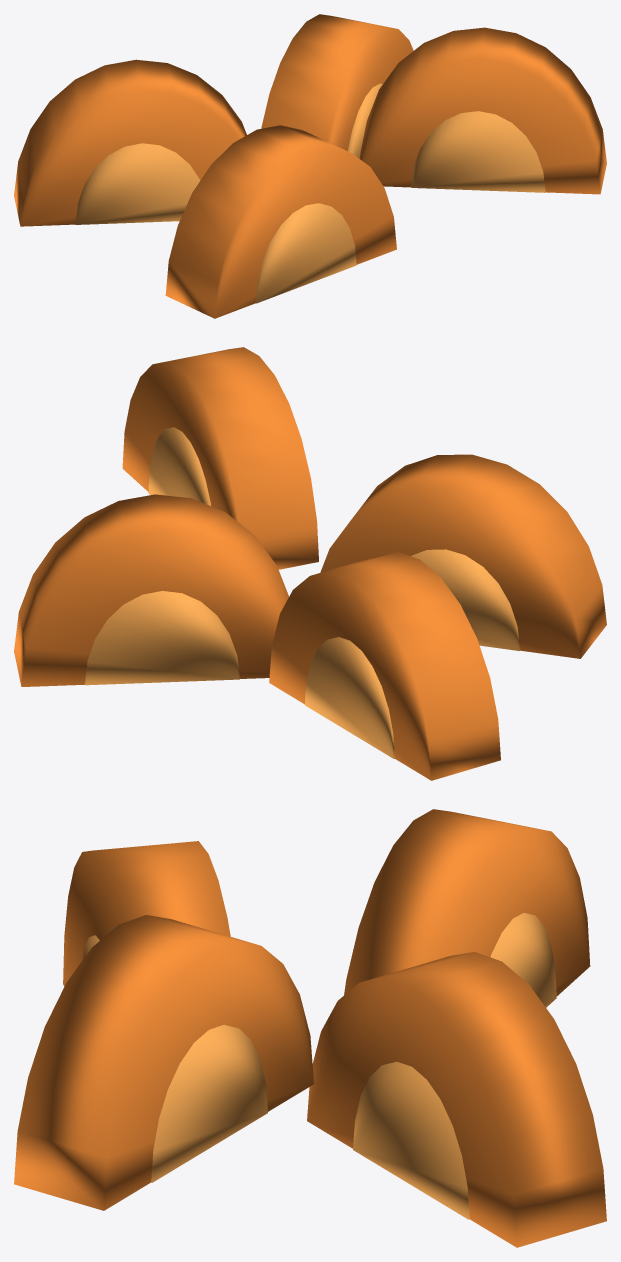
File: carrot-chopped.obj
3 renders of one model, top to bottom at view 1: azimuth 30°, elevation 25°; view 2: azimuth 150°, elevation 25°; view 3: azimuth 270°, elevation 25°, orthographic. The views are drawn at different scales.
Visible parts, largest first — view 1: carrot-chopped_carrot, carrot-chopped_carrotCore; view 2: carrot-chopped_carrot, carrot-chopped_carrotCore; view 3: carrot-chopped_carrot, carrot-chopped_carrotCore.
Boxes of the visible parts, x1,y1,x2,y2 form: carrot-chopped_carrot: (14, 14, 606, 318); carrot-chopped_carrotCore: (75, 83, 545, 303); carrot-chopped_carrot: (14, 347, 606, 780); carrot-chopped_carrotCore: (85, 427, 519, 758); carrot-chopped_carrot: (14, 809, 606, 1247); carrot-chopped_carrotCore: (82, 913, 556, 1219).
Size of the model in its own units: 0.2585 by 0.096 by 0.1943.
